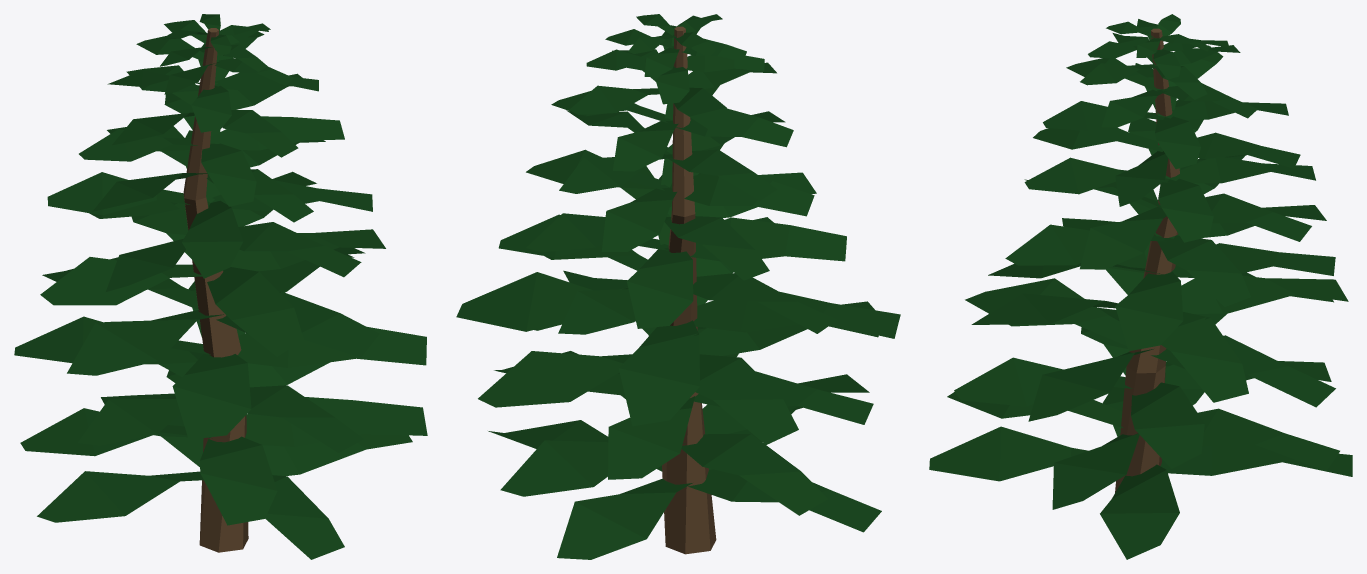
The model's file is Weird_tree_that_we_love.fbx.
3 renders of one model, left to right at view 1: azimuth 30°, elevation 25°; view 2: azimuth 150°, elevation 25°; view 3: azimuth 270°, elevation 25°, orthographic. The views are drawn at different scales.
Parts seen in each view (by area): view 1: Plane.003; view 2: Plane.003; view 3: Plane.003.
Boxes of the visible parts, bbox=[...] form: Plane.003: bbox=[14, 14, 427, 559]; Plane.003: bbox=[456, 14, 900, 559]; Plane.003: bbox=[929, 14, 1352, 559].
Size of the model in its own units: 883 by 1179 by 907.
